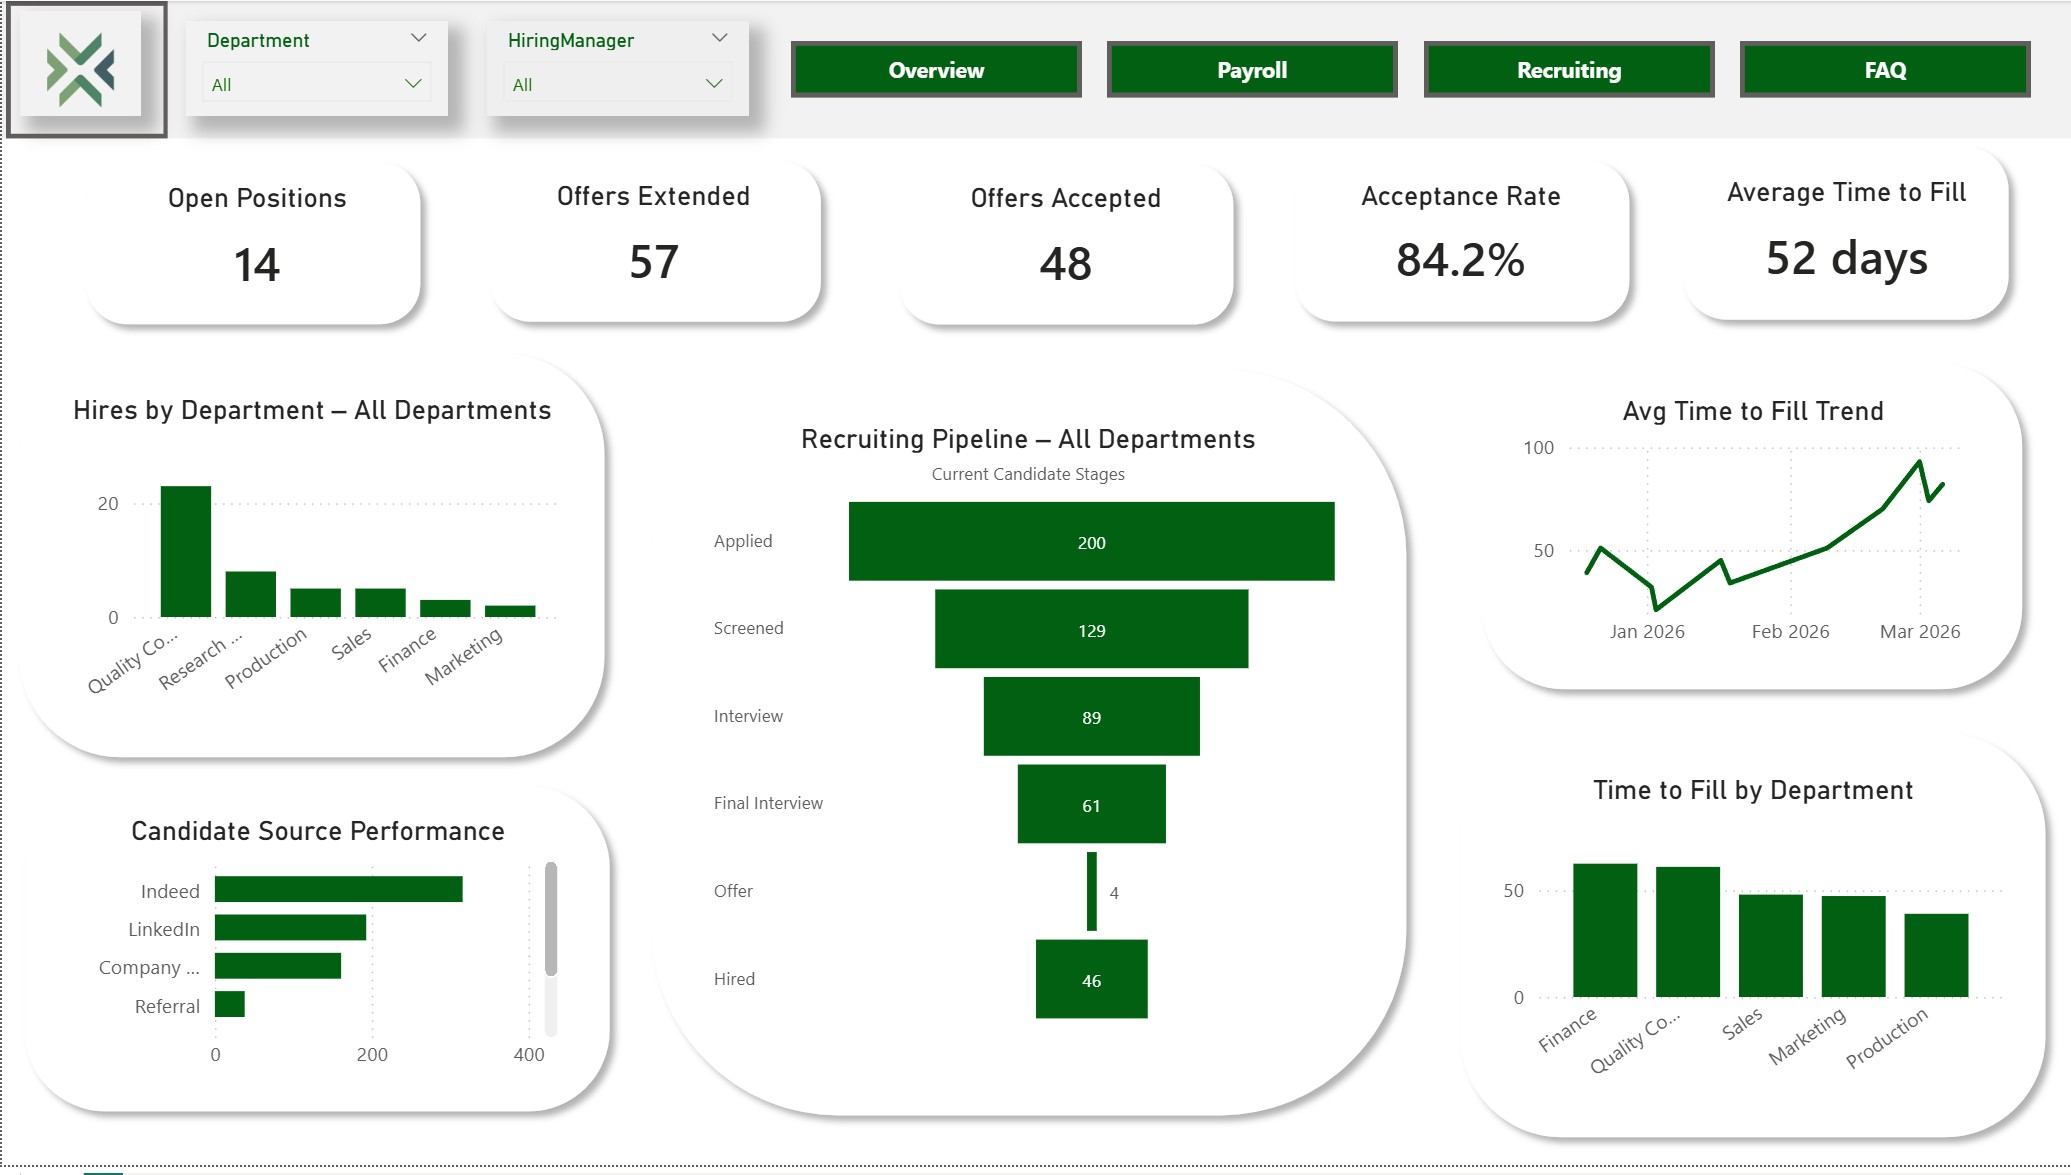

Layout of this report page (visuals, bound fields, positions):
{"tool":"powerbi","page":{"name":"Recruiting ","canvas":[1280,720],"ordinal":2},"visuals":[{"type":"group","id":"g1","title":"Top Bar","box":[0,0,1280,85.3],"z":0},{"type":"shape","box":[0,0,1280,85.3],"z":0,"group":"g1"},{"type":"shape","box":[1031,81,219.1,125.1],"z":0,"group":"g4"},{"type":"shape","box":[293,90,222.3,117.1],"z":0,"group":"g5"},{"type":"shape","box":[791,90,224.5,117],"z":0,"group":"g9"},{"type":"shape","box":[43.2,90.7,224.5,118],"z":0,"group":"g3"},{"type":"shape","box":[546,92,224.5,117],"z":0,"group":"g8"},{"type":"shape","box":[2,209,379.9,267.8],"z":0,"group":"g7"},{"type":"shape","box":[907,216,351.8,218.8],"z":0,"group":"g10"},{"type":"shape","box":[393,219,484.9,479.4],"z":0,"group":"g2"},{"type":"shape","box":[893,444,379.9,267.8],"z":0,"group":"g11"},{"type":"shape","box":[5,477,380,219],"z":0,"group":"g6"},{"type":"actionButton","box":[487.8,24.9,179.9,34.8],"z":1000,"group":"g1"},{"type":"cardVisual","title":"Average Time to Fill","fields":{"Data":[".Measures.Average Time to Fill (Display)"]},"box":[1052,102.4,178,85.5],"z":1000,"group":"g4"},{"type":"cardVisual","title":"Offers Extended","fields":{"Data":[".Measures.Offers Extended"]},"box":[314,105,178,76],"z":1000,"group":"g5"},{"type":"cardVisual","title":"Acceptance Rate","fields":{"Data":[".Measures.Offer Acceptance Rate"]},"box":[812,105,181,74],"z":1000,"group":"g9"},{"type":"cardVisual","title":"Open Positions","fields":{"Data":[".Measures.Open Jobs"]},"box":[68,106,180,77],"z":1000,"group":"g3"},{"type":"cardVisual","title":"Offers Accepted","fields":{"Data":[".Measures.Offers Accepted"]},"box":[567,106,182,76],"z":1000,"group":"g8"},{"type":"group","id":"g2","title":"PayrollDist","box":[393,219,485,479],"z":1000},{"type":"clusteredColumnChart","fields":{"Y":[".Measures.Hires"],"Category":["Departments.Department"]},"box":[32.6,242.3,319.8,201.6],"z":1000,"group":"g7"},{"type":"lineChart","title":"Avg Time to Fill Trend","fields":{"Y":[".Measures.Average Time to Fill"],"Category":["Openpositions.JobCloseDate.Variation.Date Hierarchy.Quarter"]},"box":[935.3,243.2,296.2,164.7],"z":1000,"group":"g10"},{"type":"funnel","fields":{"Category":["RecruitingStages.Stage"],"Y":[".Measures.Candidate Count"]},"box":[435.6,260.3,398.9,379.3],"z":1000,"group":"g2"},{"type":"clusteredColumnChart","title":"Time to Fill by Department","fields":{"Category":["Openpositions.Department"],"Y":["Avg(Openpositions.Time to Fill)"]},"box":[923.6,477.3,319.8,201.6],"z":1000,"group":"g11"},{"type":"clusteredBarChart","title":"Candidate Source Performance","fields":{"Category":["Candidates.Source"],"Y":["CountNonNull(Candidates.CandidateID)"]},"box":[43,503,306,167],"z":1000,"group":"g6"},{"type":"actionButton","box":[2.2,0,100.4,85.1],"z":1001},{"type":"actionButton","box":[683.6,24.9,179.9,34.8],"z":2000,"group":"g1"},{"type":"group","id":"g3","title":"OpenPosKPI","box":[43.2,90.7,224.5,118],"z":2000},{"type":"slicer","fields":{"Values":["Openpositions.HiringManager"]},"box":[300,12.4,162.1,58.8],"z":3000,"group":"g1"},{"type":"group","id":"g4","title":"TotPay KPI","box":[1031,81,219,125],"z":3000},{"type":"actionButton","box":[879.4,24.9,179.9,34.8],"z":4000,"group":"g1"},{"type":"group","id":"g5","title":"TotPay KPI","box":[293,90,222.3,117.1],"z":4000},{"type":"slicer","fields":{"Values":["Openpositions.Department"]},"box":[113.8,12.4,162.1,58.8],"z":5000,"group":"g1"},{"type":"group","id":"g6","title":"Group 1","box":[5,477,380,219],"z":5000},{"type":"actionButton","box":[1075.2,24.9,179.9,34.8],"z":6000,"group":"g1"},{"type":"group","id":"g7","title":"Group 2","box":[2,209,379,268],"z":6000},{"type":"image","box":[11.1,6.2,74.8,64.9],"z":7000,"group":"g1"},{"type":"group","id":"g8","title":"TotPay KPI","box":[546,92,224.5,117],"z":7000},{"type":"group","id":"g9","title":"TotPay KPI","box":[791,90,224.5,117],"z":8000},{"type":"group","id":"g10","title":"Group 2","box":[907,216,351,219],"z":9000},{"type":"group","id":"g11","title":"Group 2","box":[893,444,379,268],"z":10000}]}

Visuals, with their boxes in screenshot pixels (x1, y1, x2, y2), scaled from the page's 1280x720 canvas onto the 2071x1175 screenshot:
"Top Bar" group: [left=0, top=0, right=2070, bottom=139]
shape: [left=0, top=0, right=2070, bottom=139]
shape: [left=1668, top=132, right=2023, bottom=336]
shape: [left=474, top=147, right=834, bottom=338]
shape: [left=1280, top=147, right=1643, bottom=338]
shape: [left=70, top=148, right=433, bottom=341]
shape: [left=883, top=150, right=1247, bottom=341]
shape: [left=3, top=341, right=618, bottom=778]
shape: [left=1467, top=352, right=2037, bottom=710]
shape: [left=636, top=357, right=1420, bottom=1140]
shape: [left=1445, top=725, right=2060, bottom=1162]
shape: [left=8, top=778, right=623, bottom=1136]
actionButton: [left=789, top=41, right=1080, bottom=97]
"Average Time to Fill" cardVisual: [left=1702, top=167, right=1990, bottom=307]
"Offers Extended" cardVisual: [left=508, top=171, right=796, bottom=295]
"Acceptance Rate" cardVisual: [left=1314, top=171, right=1607, bottom=292]
"Open Positions" cardVisual: [left=110, top=173, right=401, bottom=299]
"Offers Accepted" cardVisual: [left=917, top=173, right=1212, bottom=297]
"PayrollDist" group: [left=636, top=357, right=1421, bottom=1139]
clusteredColumnChart - .Measures.Hires x Departments.Department: [left=53, top=395, right=570, bottom=724]
"Avg Time to Fill Trend" lineChart: [left=1513, top=397, right=1993, bottom=666]
funnel - RecruitingStages.Stage x .Measures.Candidate Count: [left=705, top=425, right=1350, bottom=1044]
"Time to Fill by Department" clusteredColumnChart: [left=1494, top=779, right=2012, bottom=1108]
"Candidate Source Performance" clusteredBarChart: [left=70, top=821, right=565, bottom=1093]
actionButton: [left=4, top=0, right=166, bottom=139]
actionButton: [left=1106, top=41, right=1397, bottom=97]
"OpenPosKPI" group: [left=70, top=148, right=433, bottom=341]
slicer - Openpositions.HiringManager: [left=485, top=20, right=748, bottom=116]
"TotPay KPI" group: [left=1668, top=132, right=2022, bottom=336]
actionButton: [left=1423, top=41, right=1714, bottom=97]
"TotPay KPI" group: [left=474, top=147, right=834, bottom=338]
slicer - Openpositions.Department: [left=184, top=20, right=446, bottom=116]
"Group 1" group: [left=8, top=778, right=623, bottom=1136]
actionButton: [left=1740, top=41, right=2031, bottom=97]
"Group 2" group: [left=3, top=341, right=616, bottom=778]
image: [left=18, top=10, right=139, bottom=116]
"TotPay KPI" group: [left=883, top=150, right=1247, bottom=341]
"TotPay KPI" group: [left=1280, top=147, right=1643, bottom=338]
"Group 2" group: [left=1467, top=352, right=2035, bottom=710]
"Group 2" group: [left=1445, top=725, right=2058, bottom=1162]
